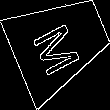M_NE: (31, 12, 89, 75)
